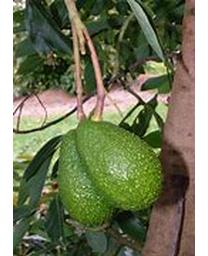avocado: (76, 122, 165, 213), (58, 128, 119, 229)
